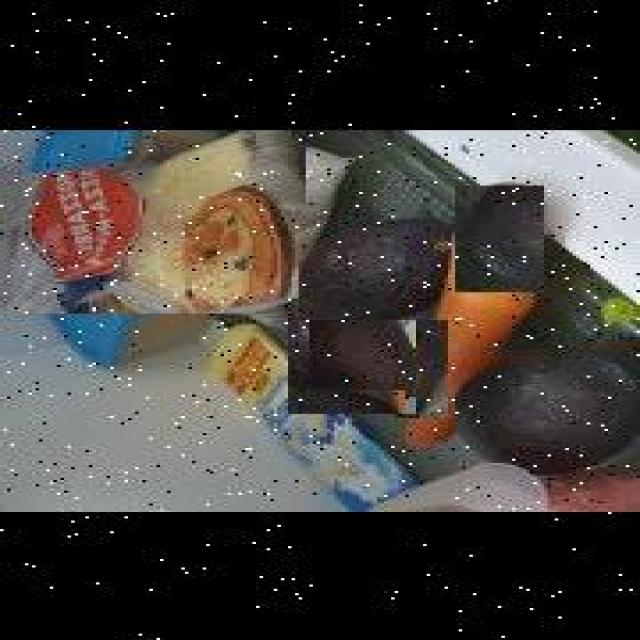avocado: (455, 344, 640, 467), (300, 217, 450, 318), (288, 296, 416, 410)
carrot: (395, 184, 544, 450)
grated_cheese: (0, 128, 306, 311)
